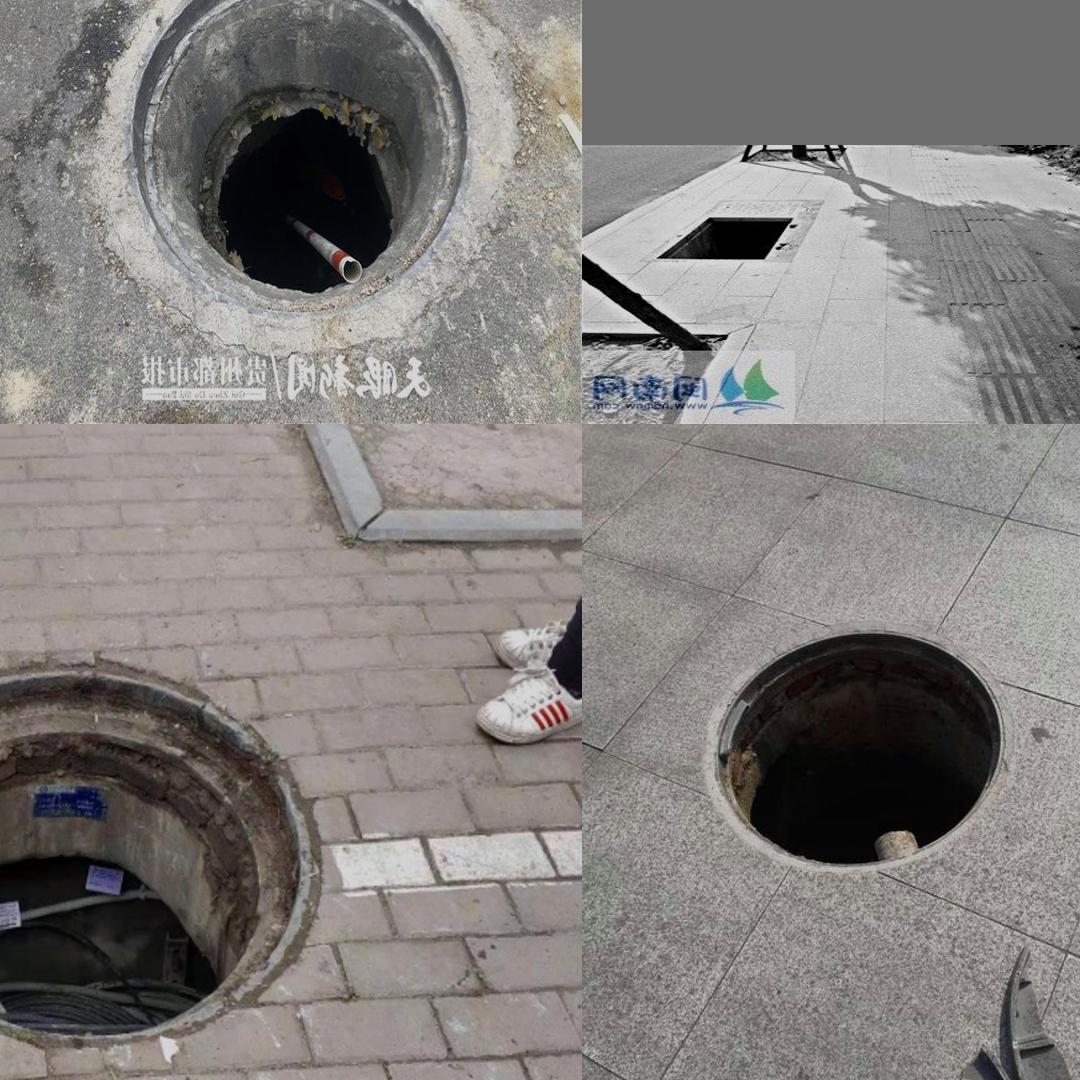lose: (0, 634, 330, 1049), (96, 0, 504, 331), (704, 614, 1033, 890), (646, 199, 815, 269)
